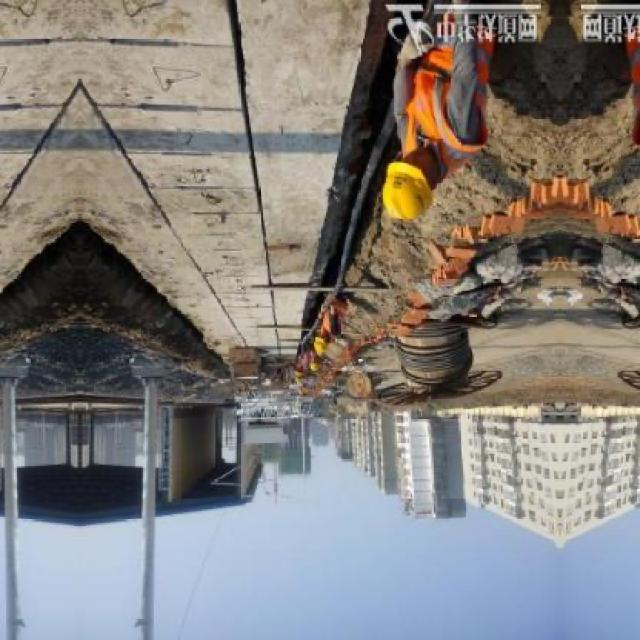con casco: (355, 152, 477, 253)
